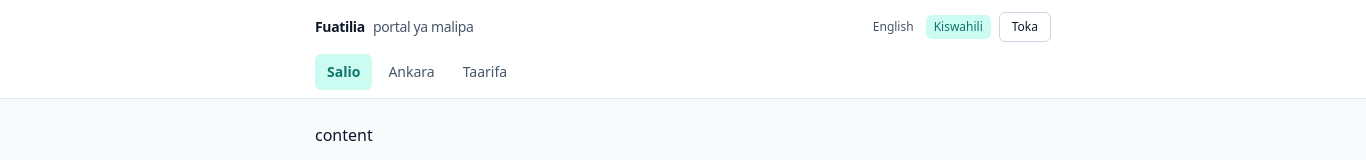
Scenario: Portal LanguageToggle › switches back to English and persists the choice
Expected: the button "Toka" is shown, [999,12,1051,42]
Click the button "English".
click(893, 27)  # box [865,15,922,39]
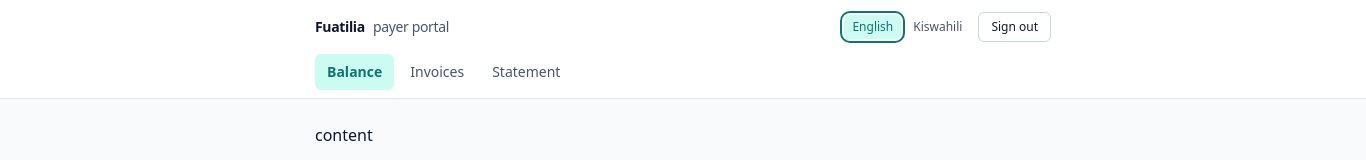
Expected: the navigation bar named "Portal" is shown, [315,54,560,90]
Now the button "Sign out" is shown, box [978,12,1051,42]
